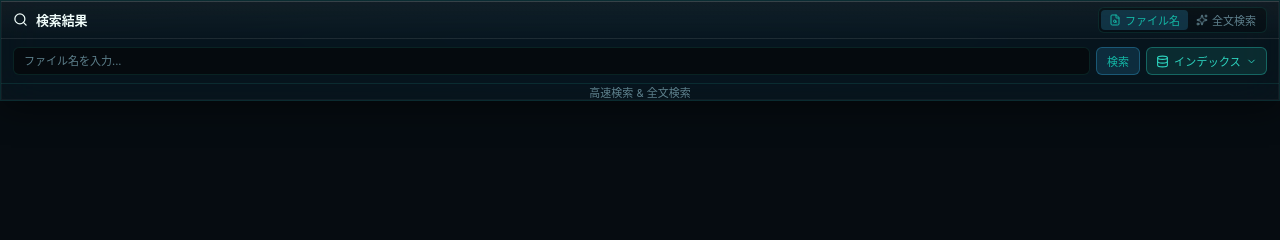
Phase 13: Search, Indexing, and Text Extraction Evolution › Task 1-2 & 1-3 & 1-4: Hybrid Search & Rich Document Previews › searches and renders Office OpenXML (.docx) and HTML extracted snippets
This screenshot has width=1280, height=240.
# Switch to Full-text tab
Click the button titled "全文検索". click: (1226, 20)
box: [1188, 10, 1264, 30]
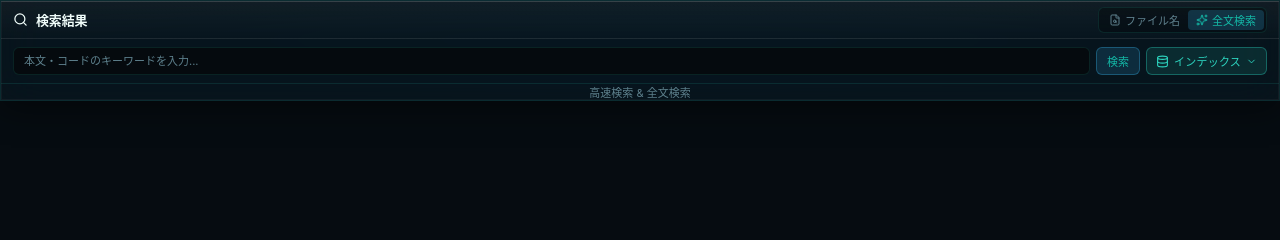
# Search for query
Type "Office OpenXML" into the field with placeholder "本文・コードのキーワードを入力...". click: (552, 61)
box: [13, 47, 1090, 75]
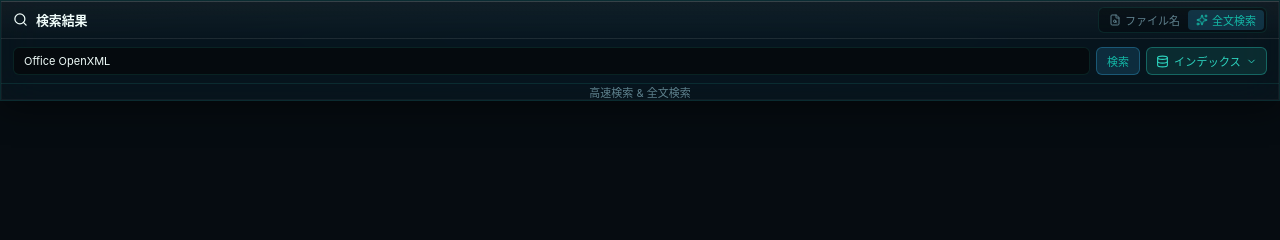
Click the button "検索". click: (1118, 61)
box: [1096, 47, 1140, 75]
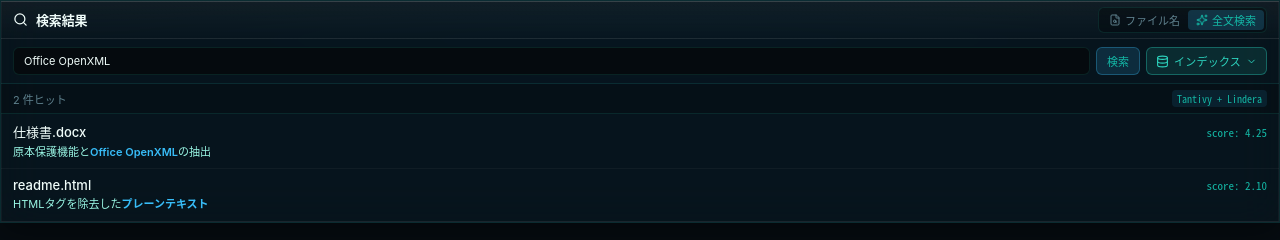
Result: the text "仕様書.docx" is shown at [13, 122, 86, 141]
Result: the text "readme.html" is shown at [13, 177, 91, 193]
Result: the text "原本保護機能と" is shown at [13, 145, 90, 159]
